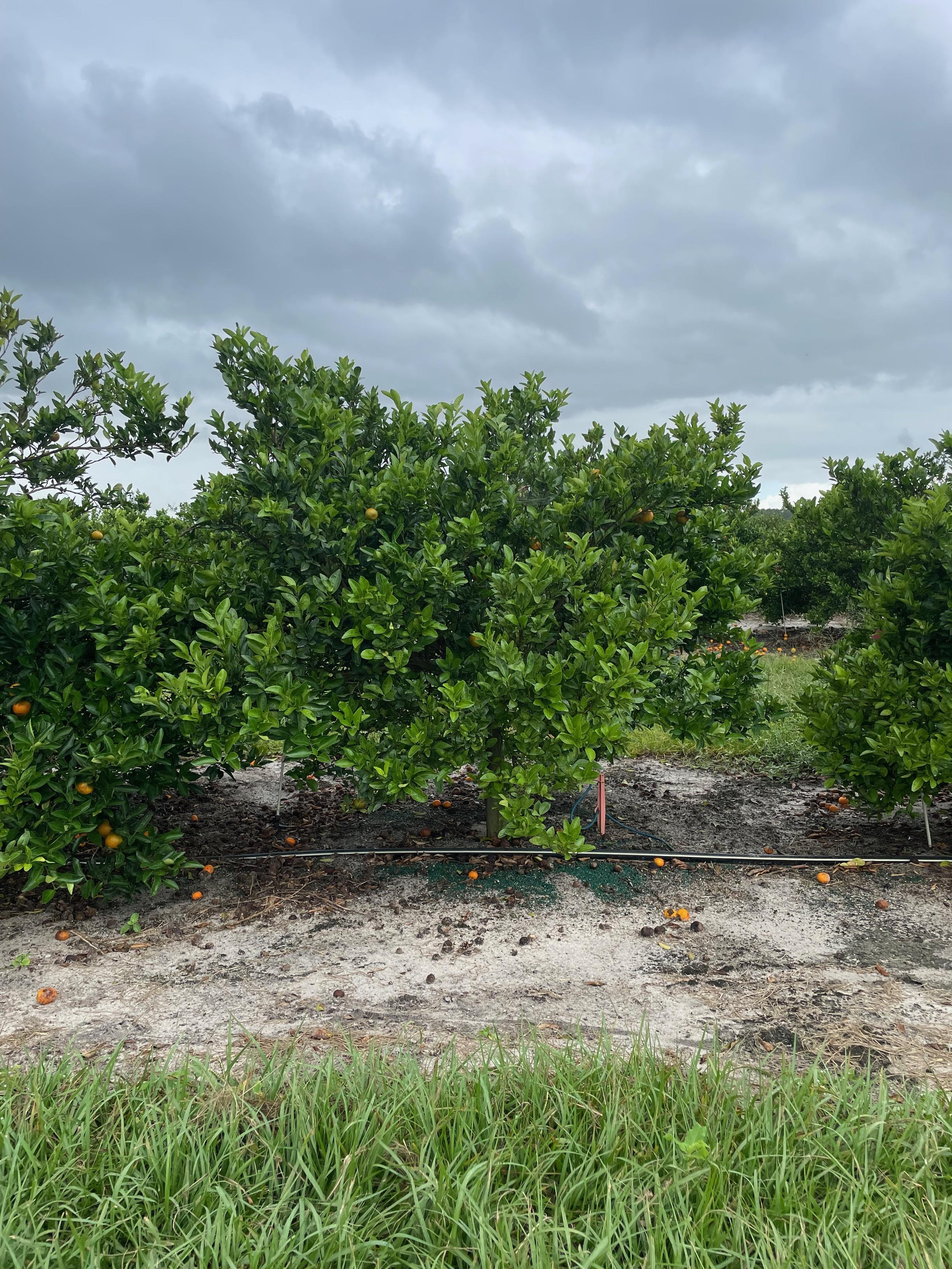fruit_on_ground: (7, 691, 34, 719), (73, 776, 96, 796), (466, 629, 486, 650), (630, 505, 650, 525), (103, 832, 124, 851), (96, 820, 116, 839), (362, 505, 381, 522), (527, 534, 544, 551), (674, 509, 691, 526), (638, 507, 655, 524), (352, 795, 368, 811), (89, 528, 105, 544), (46, 429, 62, 444), (588, 465, 603, 481)
fruit_on_tree: (34, 984, 60, 1005), (54, 927, 71, 942), (638, 923, 654, 938), (677, 905, 692, 921), (874, 896, 890, 911), (816, 869, 831, 884), (662, 905, 677, 919), (418, 824, 434, 837), (836, 794, 850, 807), (202, 862, 216, 875), (652, 855, 666, 867), (466, 869, 479, 881), (333, 986, 346, 998), (284, 834, 297, 846), (191, 890, 203, 901), (762, 844, 774, 854), (189, 813, 200, 823), (431, 799, 442, 808), (828, 805, 840, 813), (442, 800, 452, 809), (824, 802, 834, 810), (818, 801, 828, 808)
